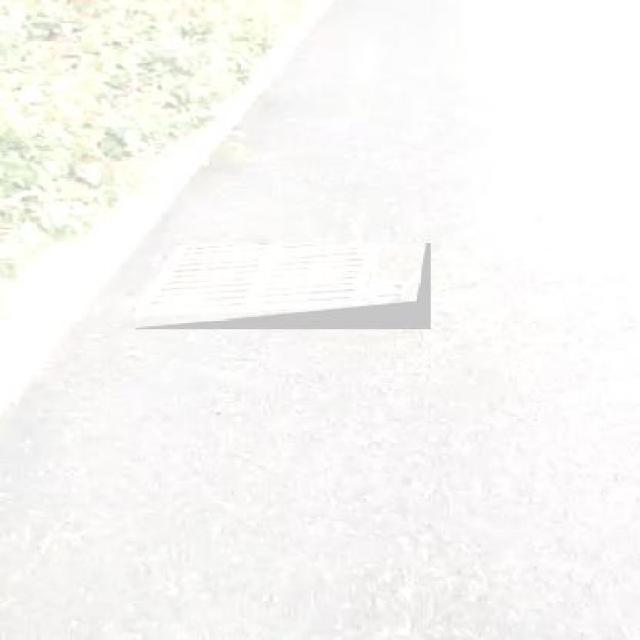Manhole: (136, 243, 430, 329)
